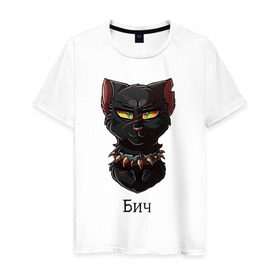cat: (94, 74, 184, 151)
